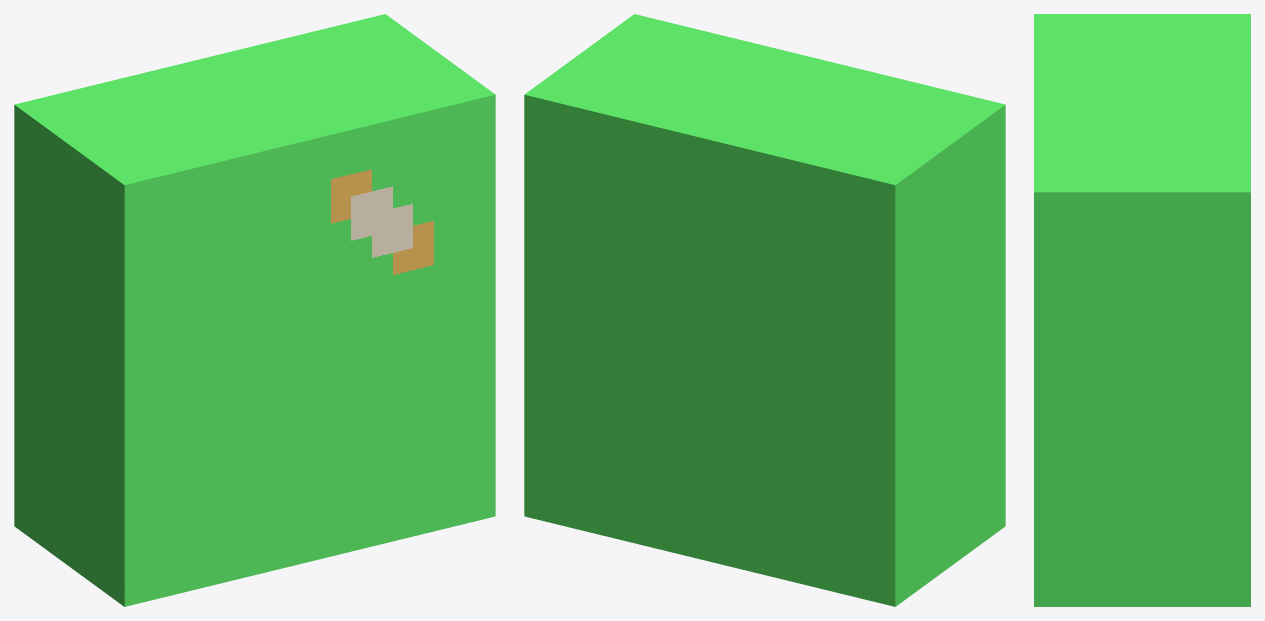
Rendered from backpack.gltf.
3 views of the same model, side by side, from view 1: azimuth 30°, elevation 25°; view 2: azimuth 150°, elevation 25°; view 3: azimuth 270°, elevation 25° (orthographic).
Parts seen in each view (by area): view 1: cube; view 2: cube; view 3: cube.
Boxes of the visible parts, bbox=[...] form: cube: bbox=[14, 14, 495, 606]; cube: bbox=[524, 14, 1005, 606]; cube: bbox=[1034, 14, 1250, 606].
Bounding box in the file's own units: 1.09 × 1.19 × 0.5625.
Materials: 1 (1 with a texture image).
